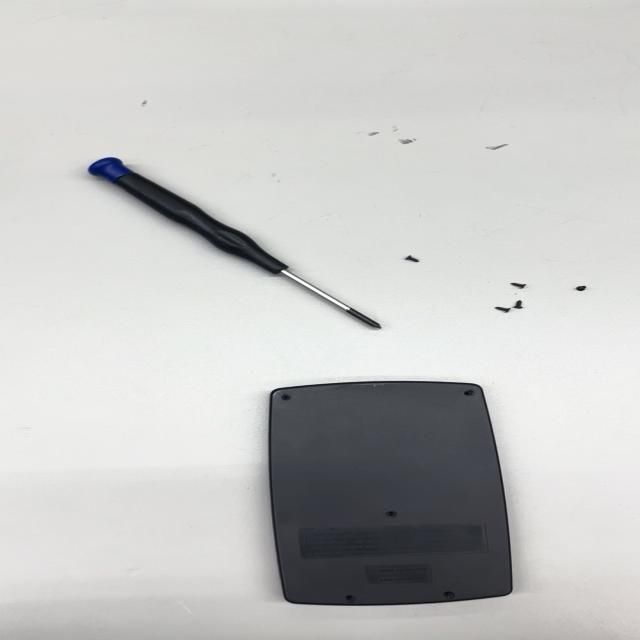back_cover: (259, 379, 519, 609)
screw: (486, 302, 513, 316), (508, 299, 533, 310), (573, 282, 590, 296), (400, 253, 418, 265), (510, 280, 529, 291)
screw_driver: (85, 155, 386, 331)
